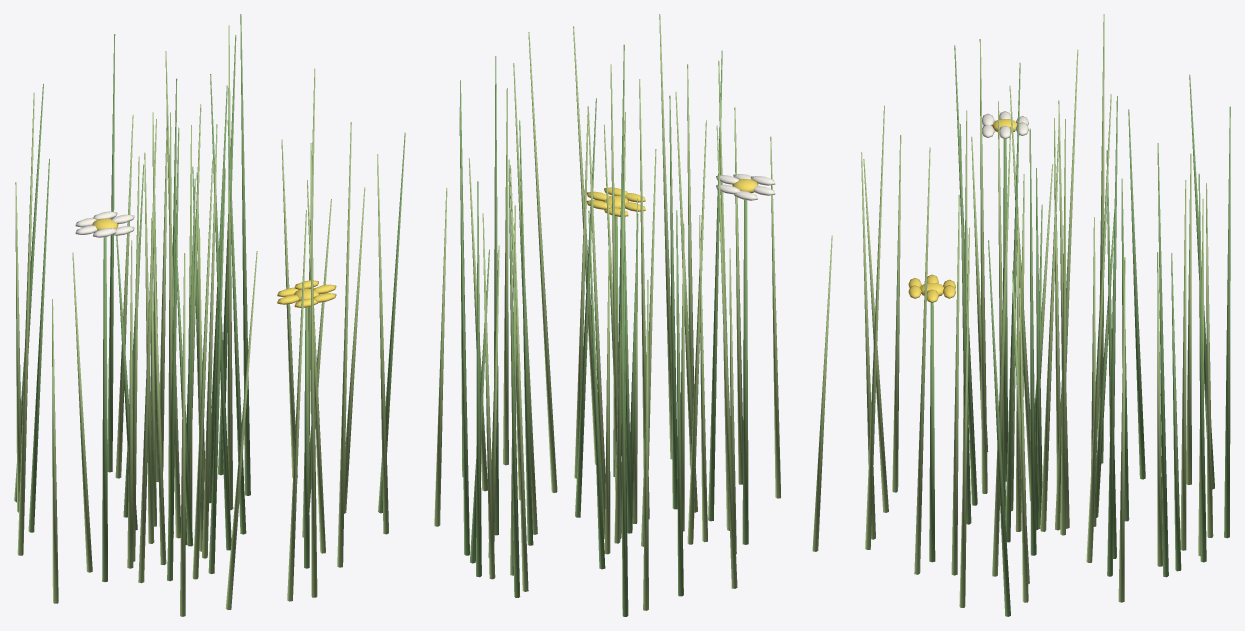
File: tall_grass_clump_b.glb
3 renders of one model, left to right at view 1: azimuth 30°, elevation 25°; view 2: azimuth 150°, elevation 25°; view 3: azimuth 270°, elevation 25°, orthographic.
Parts seen in each view (by area): view 1: blade_38, blade_29, blade_6, blade_48, blade_11, blade_22, blade_44, blade_46, flower_0_stem, blade_2, blade_42, blade_45 (+38 smaller); view 2: blade_16, blade_38, blade_24, blade_3, flower_0_stem, blade_30, blade_48, blade_39, blade_45, blade_47, blade_12, blade_33 (+38 smaller); view 3: blade_6, blade_46, blade_29, blade_42, blade_3, blade_11, blade_9, blade_24, blade_22, blade_40, blade_41, blade_16 (+39 smaller).
Boxes of the visible parts, box(x1,y1,x2,y2) form: blade_38: box(17, 92, 34, 555); blade_29: box(138, 119, 156, 583); blade_6: box(240, 14, 250, 495); blade_48: box(167, 127, 179, 581); blade_11: box(310, 143, 317, 597); blade_22: box(337, 122, 351, 567); blade_44: box(202, 124, 217, 558); blade_46: box(227, 25, 233, 509); flower_0_stem: box(102, 237, 107, 581); blade_2: box(192, 159, 213, 579); blade_42: box(210, 74, 231, 550); blade_45: box(208, 168, 225, 573); blade_16: box(528, 32, 557, 492); blade_38: box(716, 125, 737, 588); blade_24: box(459, 107, 469, 555); blade_3: box(508, 159, 520, 597); flower_0_stem: box(742, 200, 748, 544); blade_30: box(621, 179, 628, 616); blade_48: box(708, 50, 722, 521); blade_39: box(519, 120, 533, 545); blade_45: box(669, 95, 677, 509); blade_47: box(687, 120, 706, 544); blade_12: box(476, 181, 481, 577); blade_33: box(676, 210, 683, 596); blade_6: box(1107, 96, 1117, 576); blade_46: box(1086, 94, 1111, 562); blade_29: box(979, 39, 987, 493); blade_42: box(1005, 62, 1020, 542); blade_3: box(1224, 106, 1230, 538); blade_11: box(865, 105, 884, 549); blade_9: box(1029, 128, 1036, 555); blade_24: box(1157, 143, 1168, 577); blade_22: box(914, 147, 930, 574); blade_40: box(1040, 128, 1059, 531); blade_41: box(1180, 180, 1186, 550); blade_16: box(992, 126, 1011, 576).
Size of the model in its own units: 0.7361 by 0.9311 by 0.6523.
